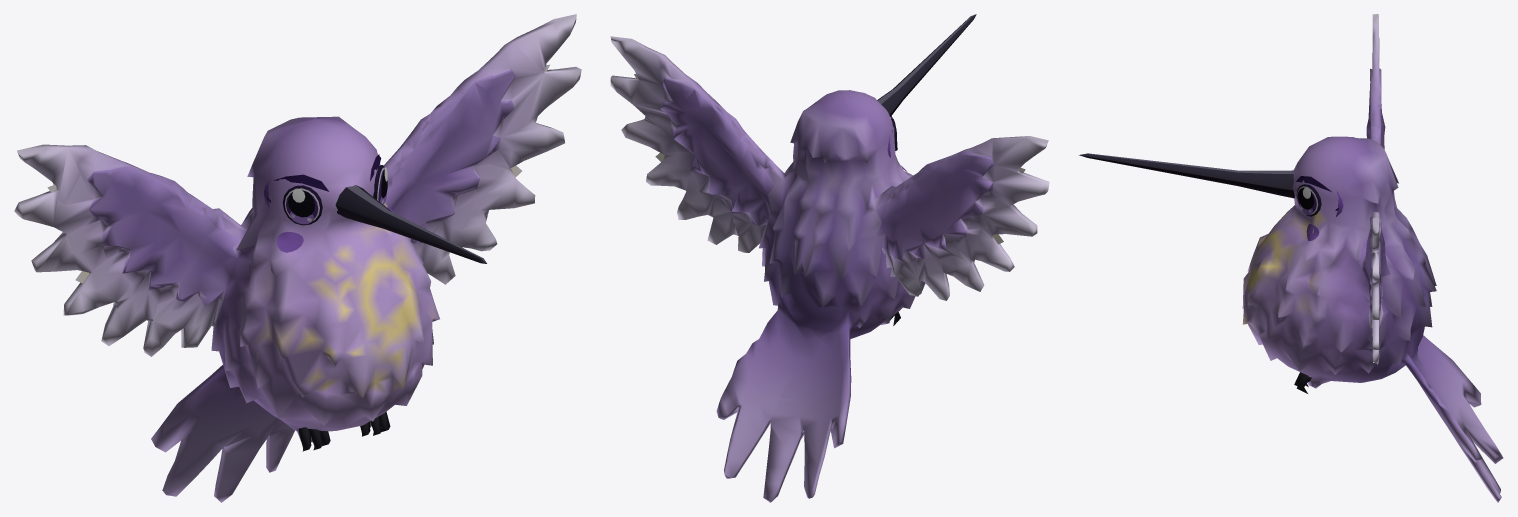
Rendered from lumari.glb.
3 renders of one model, left to right at view 1: azimuth 30°, elevation 25°; view 2: azimuth 150°, elevation 25°; view 3: azimuth 270°, elevation 25°, orthographic. The views are drawn at different scales.
Parts seen in each view (by area): view 1: body, eyes; view 2: body, eyes; view 3: body, eyes.
Boxes of the visible parts, x1,y1,x2,y2 form: body: (14,14,581,502); eyes: (263,154,486,451); body: (610,36,1049,502); eyes: (877,14,976,325); body: (1242,14,1503,502); eyes: (1079,153,1343,393).
Bounding box in the file's own units: 1.63 × 1.32 × 1.35.
